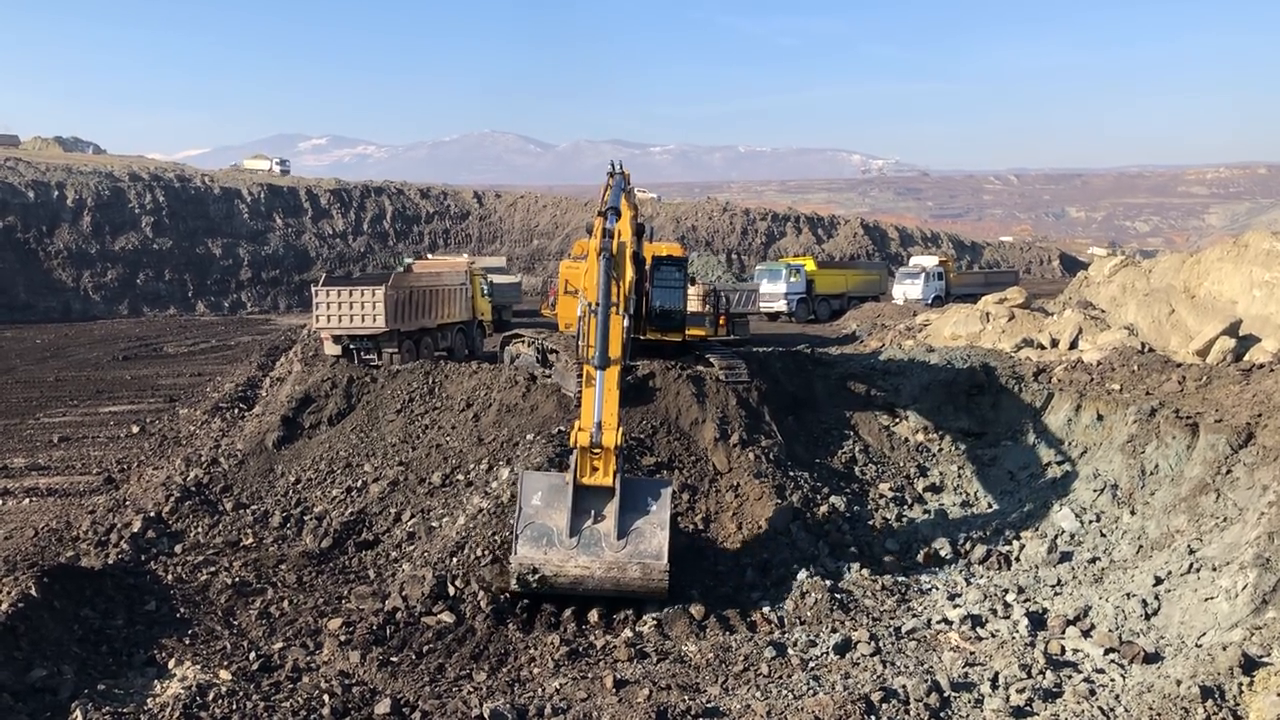full: (515, 461, 676, 597)
